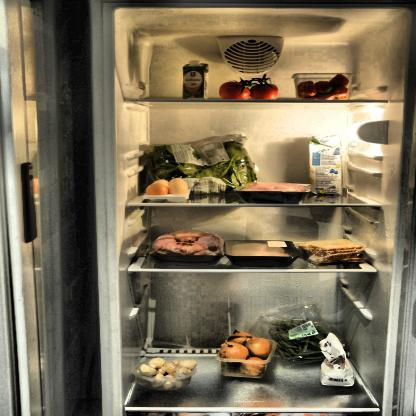chicken: (152, 229, 230, 265), (230, 242, 294, 262)
eggs: (146, 177, 188, 199)
green_beans: (267, 318, 349, 366)
ground_beef: (233, 182, 310, 203)
heavy_cream: (183, 61, 208, 100)
milk: (307, 134, 342, 196)
mushrooms: (135, 357, 198, 389)
onion: (218, 330, 272, 377)
spinach: (144, 139, 261, 194)
strawberries: (298, 74, 352, 102)
tomato: (218, 74, 282, 101)
